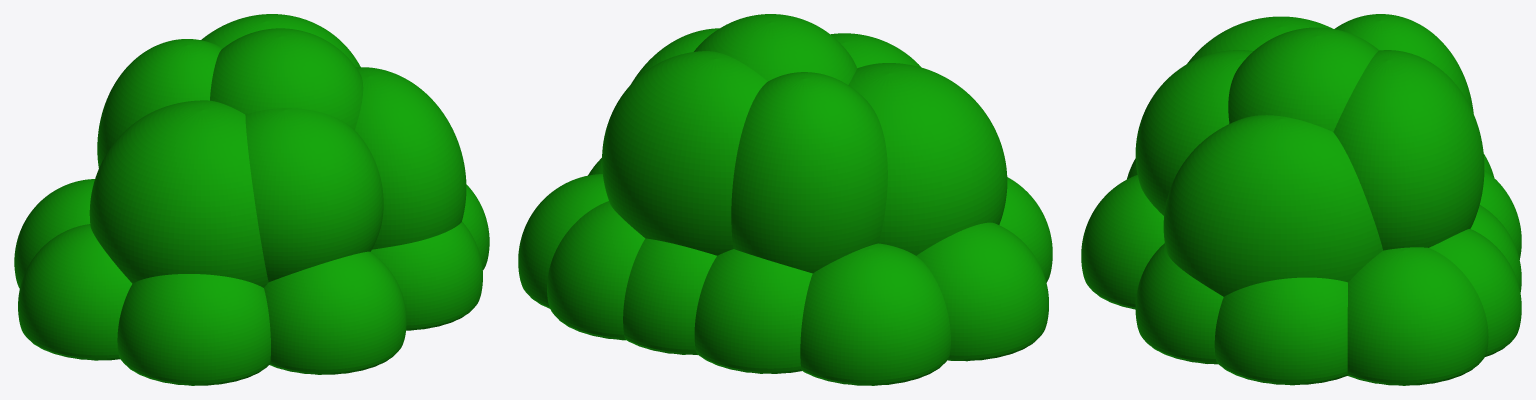
The model's file is Bush.glb.
3 renders of one model, left to right at view 1: azimuth 30°, elevation 25°; view 2: azimuth 150°, elevation 25°; view 3: azimuth 270°, elevation 25°, orthographic. The views are drawn at different scales.
Visible parts, largest first — view 1: Sphere; view 2: Sphere; view 3: Sphere.
Boxes of the visible parts, x1,y1,x2,y2 form: Sphere: [14, 14, 489, 385]; Sphere: [518, 14, 1052, 385]; Sphere: [1081, 14, 1521, 385].
Bounding box in the file's own units: 4.32 × 2.38 × 3.6.
